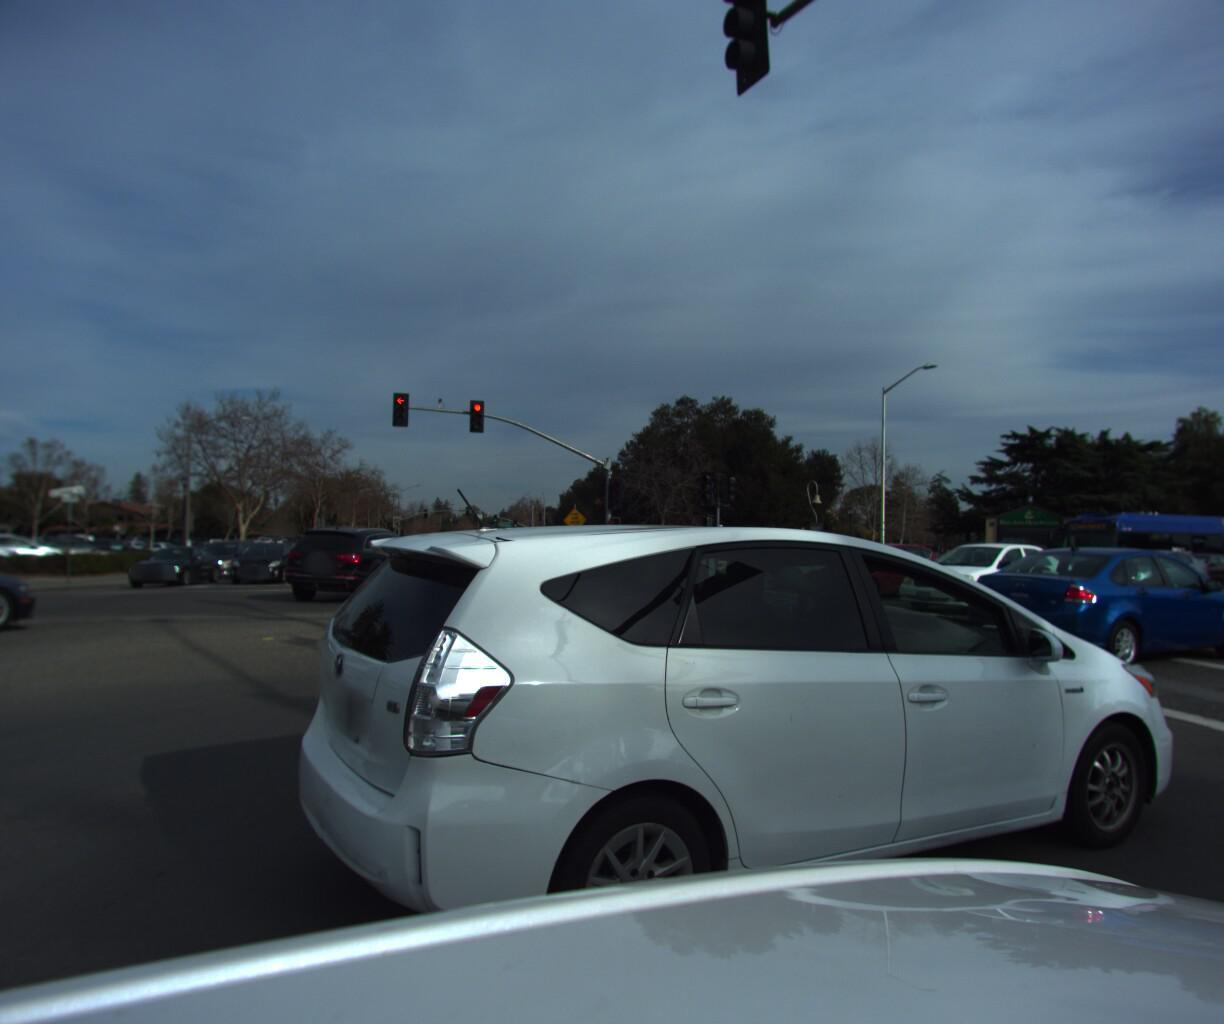bus: (1030, 507, 1224, 587)
car: (293, 489, 1219, 1024), (948, 542, 1224, 682), (888, 538, 1092, 612), (281, 524, 448, 603), (749, 539, 909, 599), (798, 538, 956, 596), (1064, 542, 1224, 599), (0, 529, 59, 669), (115, 542, 231, 591), (415, 529, 498, 582), (219, 539, 307, 586), (1122, 547, 1224, 587), (180, 539, 265, 579), (0, 530, 82, 568), (642, 546, 737, 577), (497, 539, 540, 575), (0, 529, 30, 571), (1214, 535, 1224, 594)
